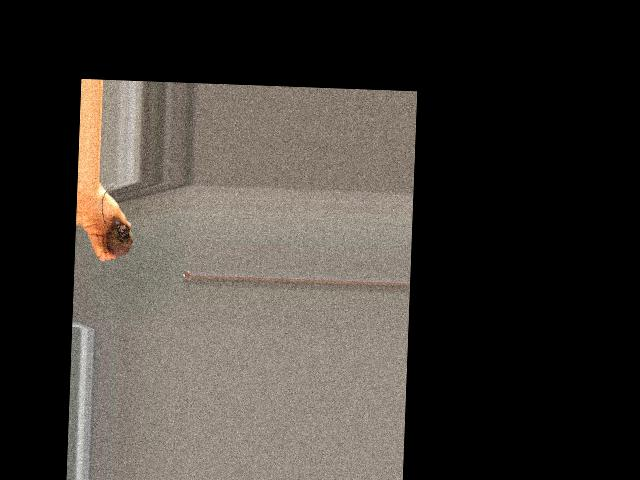beet: (98, 186, 134, 265)
